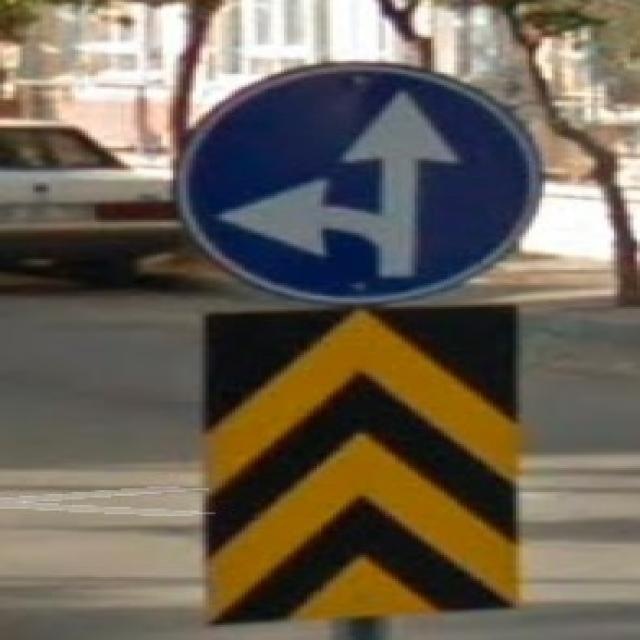Straight or Left: (174, 64, 546, 308)
